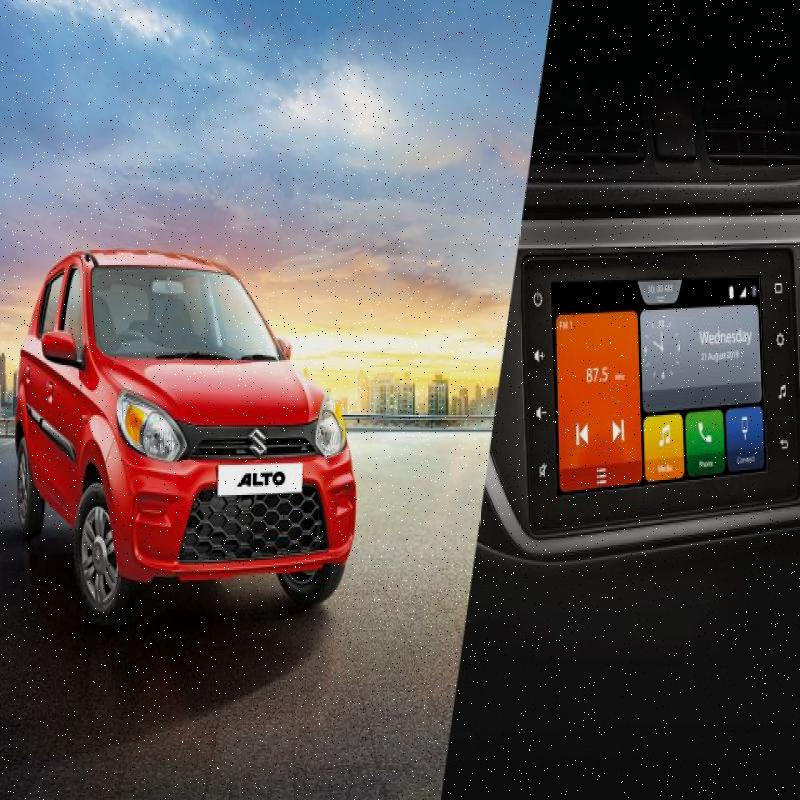car: (25, 221, 353, 614)
